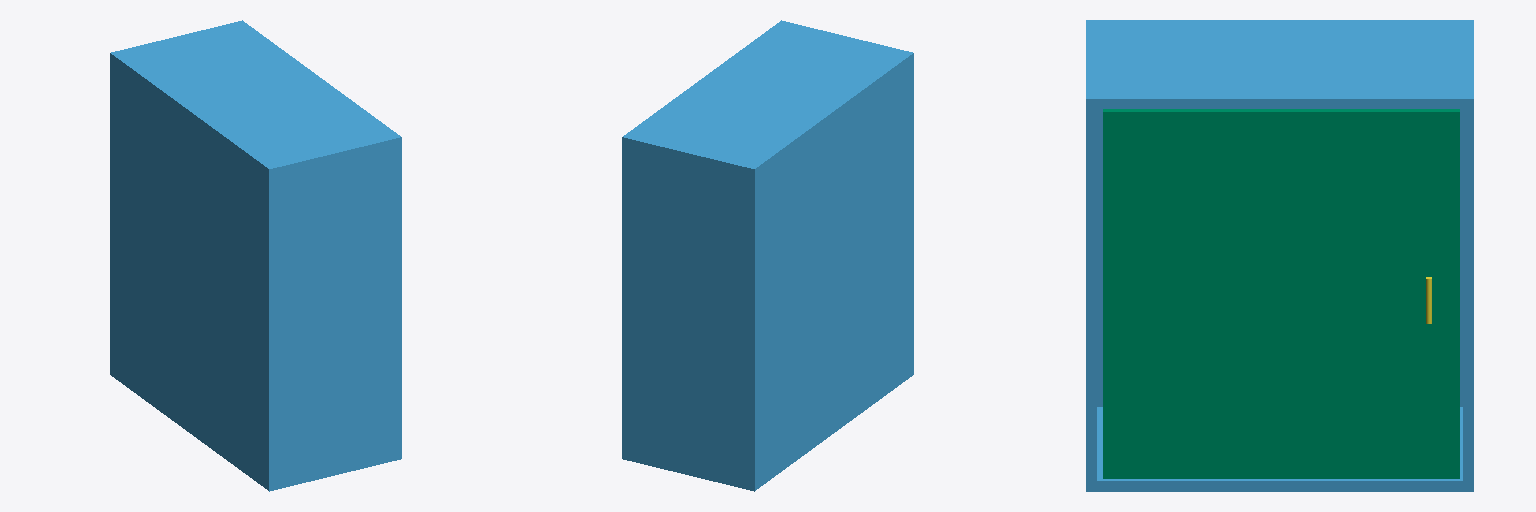
robot.urdf — my_cabinet:
<?xml version="1.0" ?>
<robot name="my_cabinet">
	<link name="world"/>
	<joint name="virtual_joint" type="fixed">
		<parent link="world"/>
		<child link="base_cabinet_link"/>
		<origin xyz="0.0 0.0 0.0" rpy="0.0 0.0 0.0"/>
	</joint>
	<link name="base_cabinet_link">
		<visual>
			<origin xyz="0.0 -0.0025 -0.33944439539684146" rpy="0.0 0.0 0.0"/>
			<geometry>
				<box size="0.3 0.6250377519666913 0.018"/>
			</geometry>
		</visual>
		<collision name="base_cabinet_link_collision_0">
			<origin xyz="0.0 -0.0025 -0.33944439539684146" rpy="0.0 0.0 0.0"/>
			<geometry>
				<box size="0.3 0.6250377519666913 0.018"/>
			</geometry>
		</collision>
		<visual>
			<origin xyz="0.0 0.30101887598334565 0.0" rpy="0.0 0.0 0.0"/>
			<geometry>
				<box size="0.3 0.018 0.6968887907936829"/>
			</geometry>
		</visual>
		<collision name="base_cabinet_link_collision_1">
			<origin xyz="0.0 0.30101887598334565 0.0" rpy="0.0 0.0 0.0"/>
			<geometry>
				<box size="0.3 0.018 0.6968887907936829"/>
			</geometry>
		</collision>
		<visual>
			<origin xyz="0.0 -0.30601887598334565 0.0" rpy="0.0 0.0 0.0"/>
			<geometry>
				<box size="0.3 0.018 0.6968887907936829"/>
			</geometry>
		</visual>
		<collision name="base_cabinet_link_collision_2">
			<origin xyz="0.0 -0.30601887598334565 0.0" rpy="0.0 0.0 0.0"/>
			<geometry>
				<box size="0.3 0.018 0.6968887907936829"/>
			</geometry>
		</collision>
		<visual>
			<origin xyz="0.0 -0.0025 0.33944439539684146" rpy="0.0 0.0 0.0"/>
			<geometry>
				<box size="0.3 0.6250377519666913 0.018"/>
			</geometry>
		</visual>
		<collision name="base_cabinet_link_collision_3">
			<origin xyz="0.0 -0.0025 0.33944439539684146" rpy="0.0 0.0 0.0"/>
			<geometry>
				<box size="0.3 0.6250377519666913 0.018"/>
			</geometry>
		</collision>
		<visual>
			<origin xyz="-0.141 -0.0025 0.0" rpy="0.0 0.0 0.0"/>
			<geometry>
				<box size="0.018 0.6250377519666913 0.6968887907936829"/>
			</geometry>
		</visual>
		<collision name="base_cabinet_link_collision_4">
			<origin xyz="-0.141 -0.0025 0.0" rpy="0.0 0.0 0.0"/>
			<geometry>
				<box size="0.018 0.6250377519666913 0.6968887907936829"/>
			</geometry>
		</collision>
		<inertial>
			<mass value="0.200000"/>
			<inertia ixx="0.014605" ixy="0.0" ixz="0.0" iyy="0.009594" iyz="0.0" izz="0.008011"/>
		</inertial>
	</link>
	<link name="door_link">
		<visual>
			<origin xyz="0.0 -0.28701887598334563 0.0"/>
			<geometry>
				<box size="0.018 0.5740377519666913 0.6508887907936829"/>
			</geometry>
		</visual>
		<collision name="door_link_collision">
			<origin xyz="0.0 -0.28701887598334563 0.0"/>
			<geometry>
				<box size="0.018 0.5740377519666913 0.6508887907936829"/>
			</geometry>
		</collision>
		<inertial>
			<mass value="0.200000"/>
			<inertia ixx="0.012553" ixy="0.0" ixz="0.0" iyy="0.007066" iyz="0.0" izz="0.005497"/>
		</inertial>
	</link>
	<joint name="door_joint" type="revolute">
		<origin xyz="0.141 -0.28701887598334563 0.0" rpy="0.000000 -0.000000 3.141593"/>
		<axis xyz="0 0 1"/>
		<parent link="base_cabinet_link"/>
		<child link="door_link"/>
		<limit effort="50" lower="-1.658062789394613" upper="0" velocity="10"/>
		<dynamics friction="3.5" damping="3.5"/>
	</joint>
	<link name="handle_link">
		<visual>
			<origin xyz="0.0 0.0 0.0" rpy="0.0 0.0 0.0"/>
			<geometry>
				<cylinder length="0.08" radius="0.005"/>
			</geometry>
		</visual>
		<collision name="handle_link_collision_0">
			<origin xyz="0.0 0.0 0.0" rpy="0.0 0.0 0.0"/>
			<geometry>
				<cylinder length="0.08" radius="0.005"/>
			</geometry>
		</collision>
		<visual>
			<origin xyz="-0.01 0.0 0.02" rpy="0.0 1.5707963267948966 0.0"/>
			<geometry>
				<cylinder length="0.02" radius="0.003"/>
			</geometry>
		</visual>
		<collision name="handle_link_collision_1">
			<origin xyz="-0.01 0.0 0.02" rpy="0.0 1.5707963267948966 0.0"/>
			<geometry>
				<cylinder length="0.01" radius="0.003"/>
			</geometry>
		</collision>
		<visual>
			<origin xyz="-0.01 0.0 -0.02" rpy="0.0 1.5707963267948966 0.0"/>
			<geometry>
				<cylinder length="0.02" radius="0.003"/>
			</geometry>
		</visual>
		<collision name="handle_link_collision_2">
			<origin xyz="-0.01 0.0 -0.02" rpy="0.0 1.5707963267948966 0.0"/>
			<geometry>
				<cylinder length="0.02" radius="0.003"/>
			</geometry>
		</collision>
		<inertial>
			<mass value="0.050000"/>
			<inertia ixx="0.000027" ixy="0.0" ixz="0.0" iyy="0.000029" iyz="0.0" izz="0.000003"/>
		</inertial>
	</link>
	<joint name="handle_joint" type="fixed">
		<origin xyz="-0.028999999999999998 -0.5240377519666912 0.0" rpy="0.000000 -0.000000 3.141593"/>
		<parent link="door_link"/>
		<child link="handle_link"/>
	</joint>
	<gazebo reference="base_cabinet_link">
		<sensor name="main_sensor" type="contact">
			<selfCollide>true</selfCollide>
			<alwaysOn>true</alwaysOn>
			<updateRate>5.0</updateRate>
			<material>Gazebo/Red</material>
			<contact>
				<collision>base_cabinet_link_collision_0_collision</collision>
				<collision>base_cabinet_link_collision_1_collision</collision>
				<collision>base_cabinet_link_collision_2_collision</collision>
				<collision>base_cabinet_link_collision_3_collision</collision>
				<collision>base_cabinet_link_collision_4_collision</collision>
			</contact>
			<plugin name="gazebo_ros_bumper_controller" filename="libgazebo_ros_bumper.so">
				<bumperTopicName>/contact</bumperTopicName>
				<frameName>world</frameName>
			</plugin>
		</sensor>
	</gazebo>
	<gazebo reference="door_link">
		<sensor name="main_sensor" type="contact">
			<selfCollide>true</selfCollide>
			<alwaysOn>true</alwaysOn>
			<updateRate>5.0</updateRate>
			<material>Gazebo/Red</material>
			<contact>
				<collision>door_link_collision_collision</collision>
			</contact>
			<plugin name="gazebo_ros_bumper_controller" filename="libgazebo_ros_bumper.so">
				<bumperTopicName>/contact_door</bumperTopicName>
				<frameName>contact_door</frameName>
			</plugin>
		</sensor>
	</gazebo>
	<gazebo reference="door_link">
		<mu>3.0</mu>
		<mu2>3.0</mu2>
		<kp>10000000</kp>
		<kd>100</kd>
	</gazebo>
</robot>

--- Render facts (derived) ---
The picture shows the robot from 3 angles, left to right: view 1: azimuth 30°, elevation 25°; view 2: azimuth 150°, elevation 25°; view 3: azimuth 270°, elevation 25°; orthographic projection.
Robot: my_cabinet — 4 links, 3 joints (1 revolute, 2 fixed); root link world; default pose: every joint at zero.
Visible links, largest first — view 1: base_cabinet_link; view 2: base_cabinet_link; view 3: door_link, base_cabinet_link.
Link boxes in pixels (left/top/right/bottom): base_cabinet_link: left=110, top=20, right=401, bottom=491; base_cabinet_link: left=622, top=20, right=913, bottom=491; door_link: left=1103, top=109, right=1459, bottom=478; base_cabinet_link: left=1086, top=20, right=1473, bottom=491.
Bounding box of the posed robot: 0.325 × 0.625 × 0.6969 m (x, y, z).
Geometry: primitives only (box / cylinder / sphere), no mesh files.
